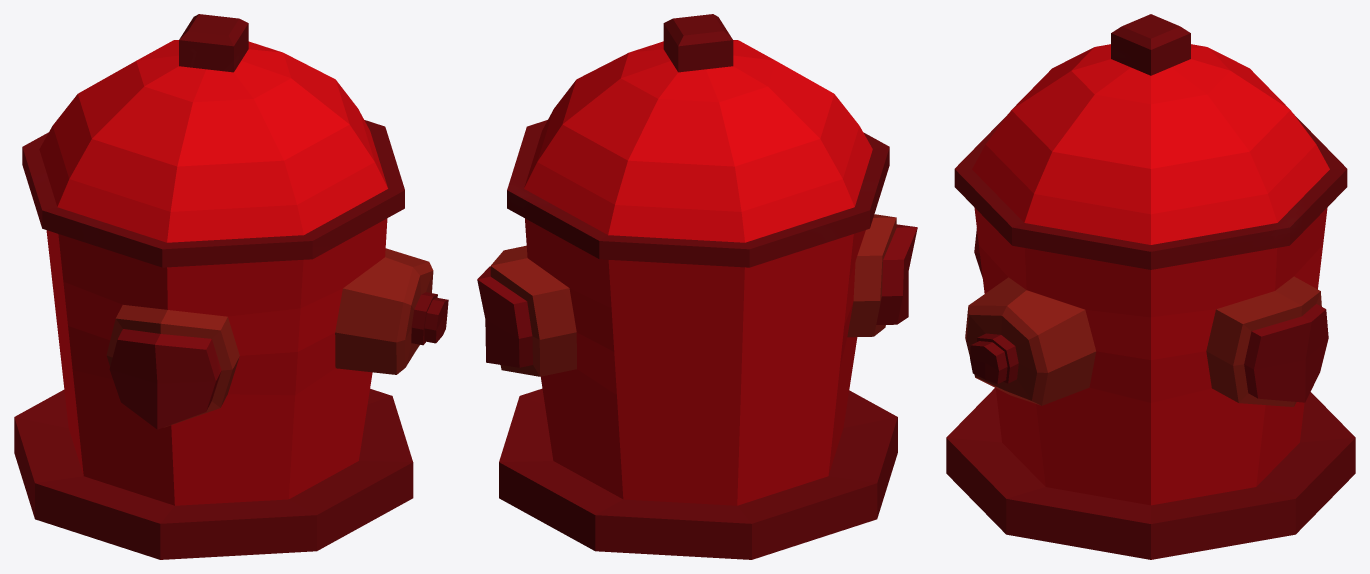
File: hidrante.fbx
The picture shows the model from 3 angles, left to right: view 1: azimuth 30°, elevation 25°; view 2: azimuth 150°, elevation 25°; view 3: azimuth 270°, elevation 25°; orthographic projection.
Parts seen in each view (by area): view 1: HIDRANTE; view 2: HIDRANTE; view 3: HIDRANTE.
Part boxes in pixels (x1,y1,x2,y2): HIDRANTE: (14, 14, 448, 559); HIDRANTE: (477, 14, 917, 559); HIDRANTE: (946, 14, 1355, 559).
Size of the model in its own units: 270 by 325 by 270.
Materials: 1 (1 with a texture image).
